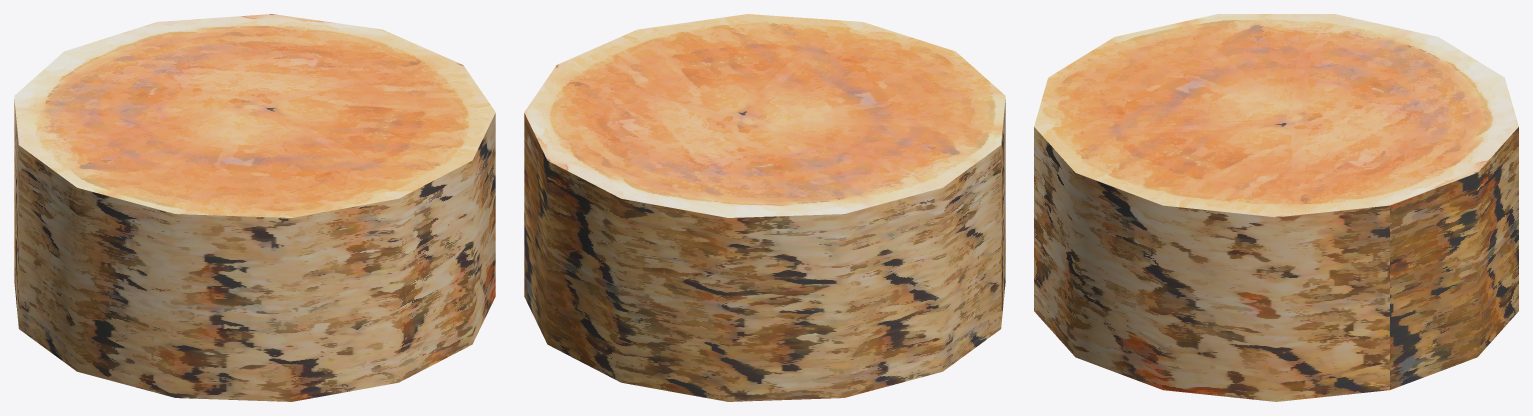
The model's file is Obj07_Stanp.fbx.
3 views of the same model, side by side, from view 1: azimuth 30°, elevation 25°; view 2: azimuth 150°, elevation 25°; view 3: azimuth 270°, elevation 25° (orthographic).
Parts seen in each view (by area): view 1: Obj07_Stanp; view 2: Obj07_Stanp; view 3: Obj07_Stanp.
Part boxes in pixels (x1,y1,x2,y2): Obj07_Stanp: (14, 14, 495, 401); Obj07_Stanp: (524, 14, 1005, 401); Obj07_Stanp: (1034, 14, 1518, 401).
Size of the model in its own units: 0.6103 by 0.2582 by 0.6148.
